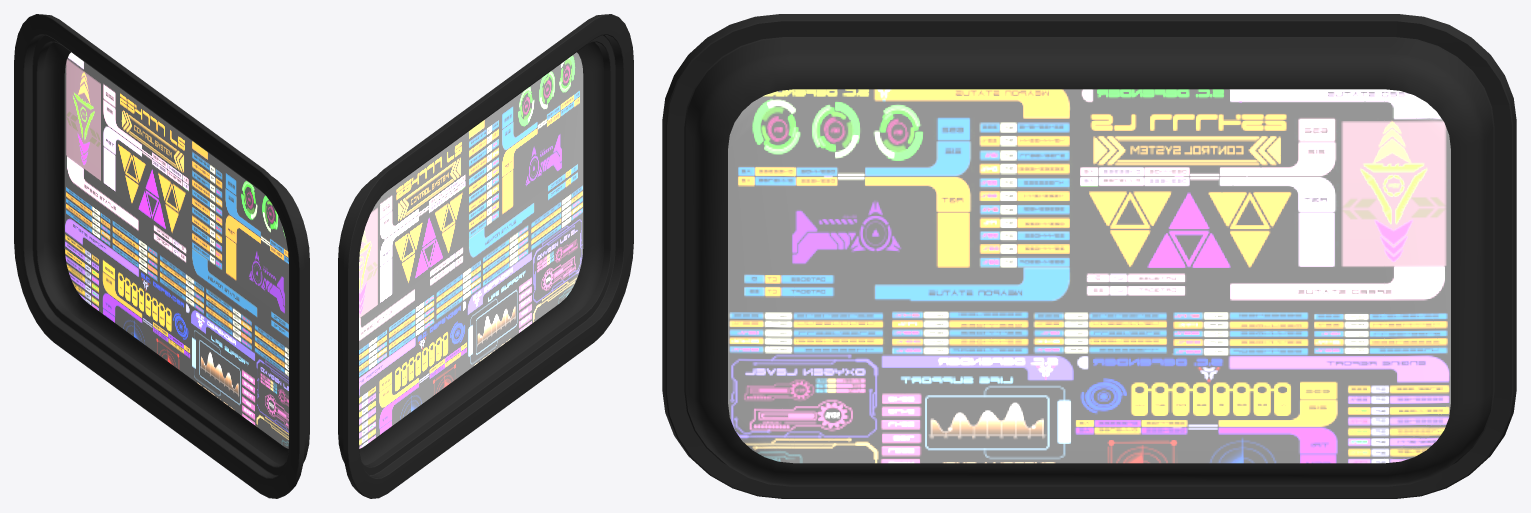
3 views of the same model, side by side, from view 1: azimuth 30°, elevation 25°; view 2: azimuth 150°, elevation 25°; view 3: azimuth 270°, elevation 25° (orthographic). The views are drawn at different scales.
Parts seen in each view (by area): view 1: SM_TV-1_LOD0; view 2: SM_TV-1_LOD0; view 3: SM_TV-1_LOD0.
Part boxes in pixels (<box>): SM_TV-1_LOD0: <box>14,14,309,498</box>; SM_TV-1_LOD0: <box>338,14,633,498</box>; SM_TV-1_LOD0: <box>662,14,1516,498</box>.
Bounding box in the file's own units: 8.06 × 85.21 × 137.
2 materials, 1 textured.
